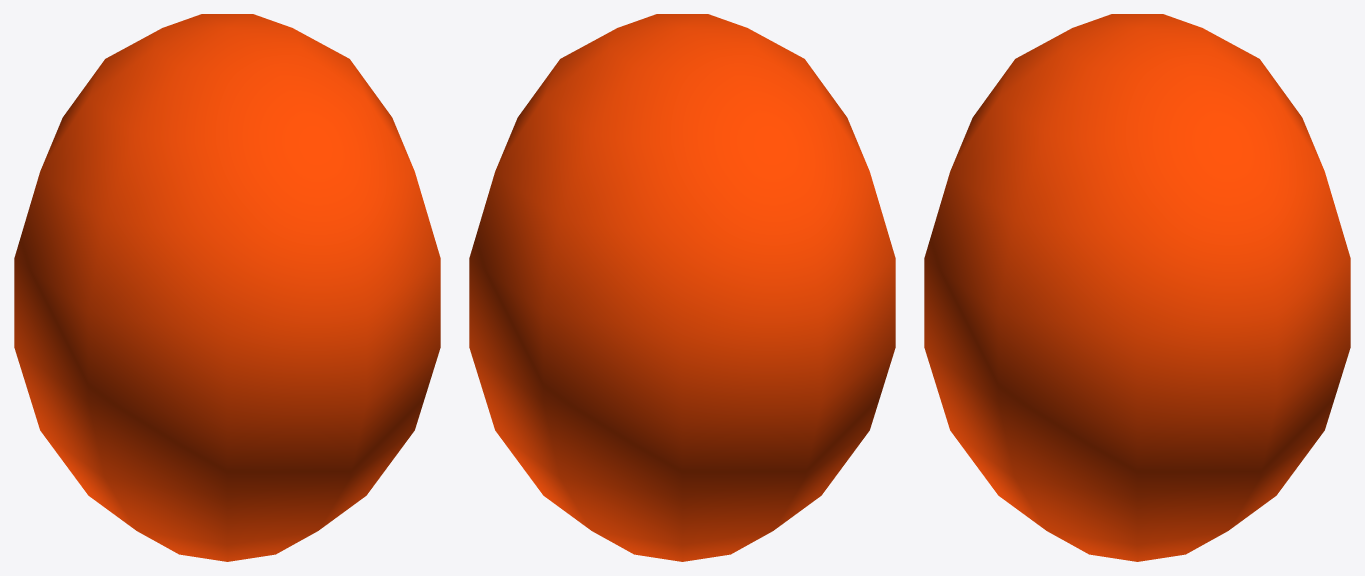
Rendered from carvunio_stage1.obj.
3 renders of one model, left to right at view 1: azimuth 30°, elevation 25°; view 2: azimuth 150°, elevation 25°; view 3: azimuth 270°, elevation 25°, orthographic.
Bounding box in the file's own units: 1.34 × 1.82 × 1.36.
